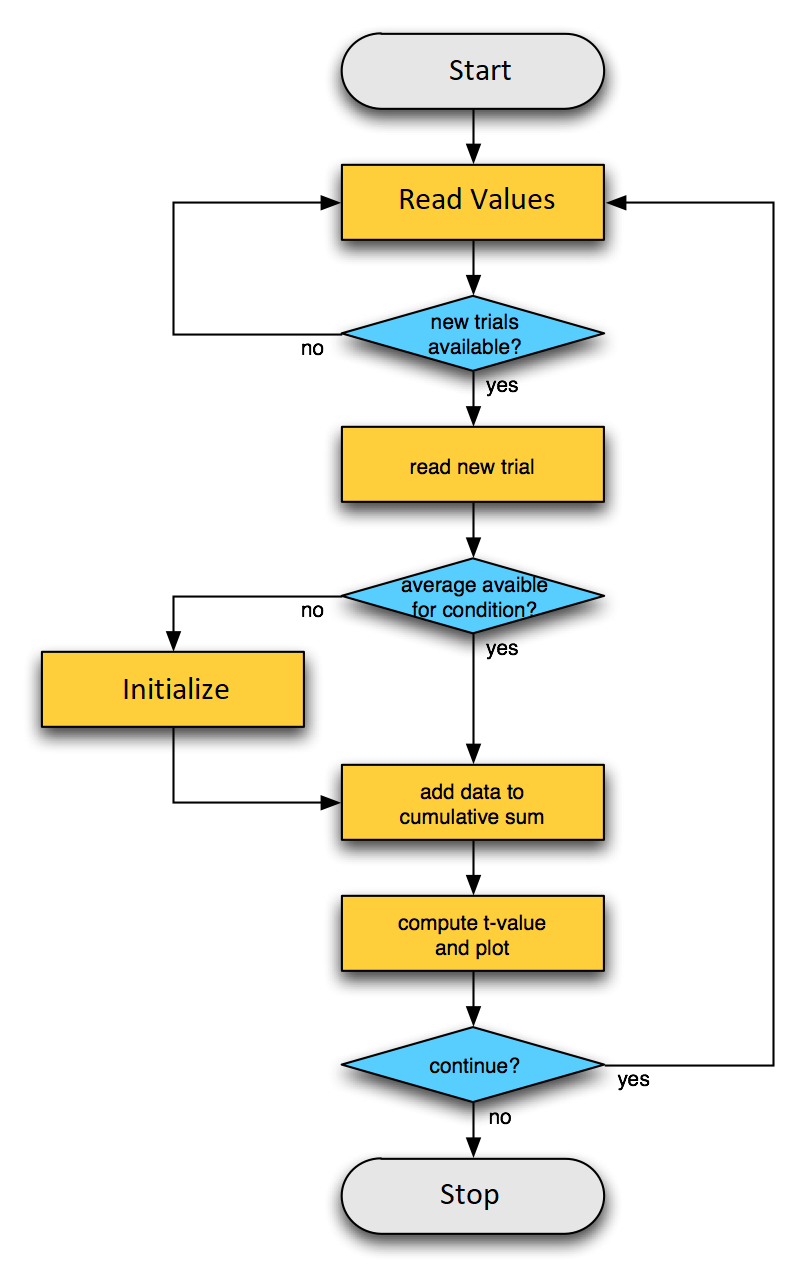arrow: (600, 190, 779, 1072), (165, 190, 341, 339), (165, 723, 345, 814), (161, 588, 337, 649), (463, 627, 486, 768), (457, 239, 490, 302), (461, 374, 490, 429), (459, 1098, 486, 1157), (463, 106, 486, 161), (461, 508, 485, 559), (463, 968, 483, 1025)
decision: (341, 290, 616, 386), (328, 551, 610, 643), (335, 1025, 606, 1104)
process: (332, 417, 614, 516), (332, 755, 610, 853), (332, 157, 612, 253), (34, 643, 314, 737), (334, 890, 610, 980)
terminator: (324, 23, 618, 127), (332, 1149, 606, 1247)
text: (390, 910, 555, 961), (396, 574, 549, 623), (396, 780, 549, 829), (396, 184, 557, 217), (424, 312, 524, 359), (120, 672, 235, 704), (402, 455, 541, 478), (443, 51, 512, 88), (424, 1053, 524, 1078), (435, 1178, 502, 1212), (610, 1068, 653, 1094), (479, 635, 524, 659), (481, 374, 522, 400), (294, 335, 330, 361), (483, 1106, 514, 1131), (294, 600, 330, 621)
